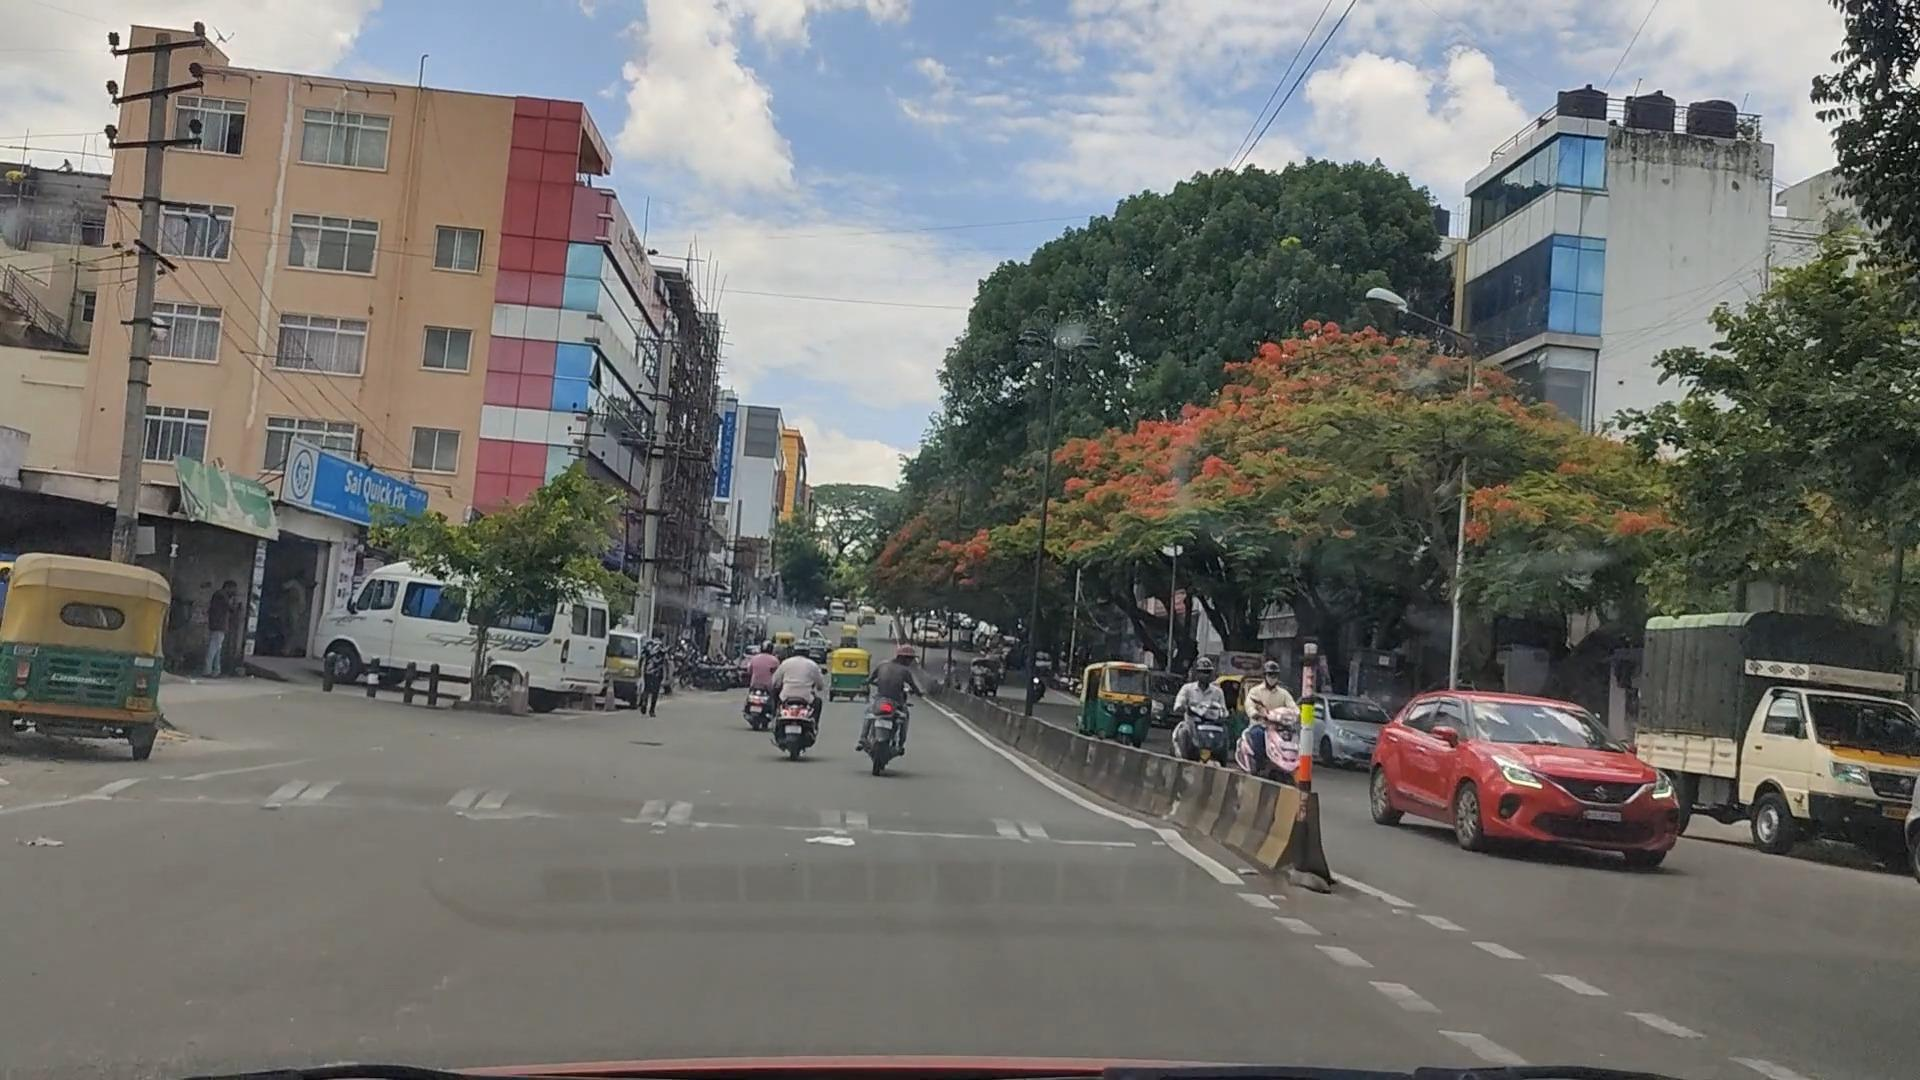LMV: (0, 558, 182, 765)
SpeedBump: (108, 766, 1187, 848)
